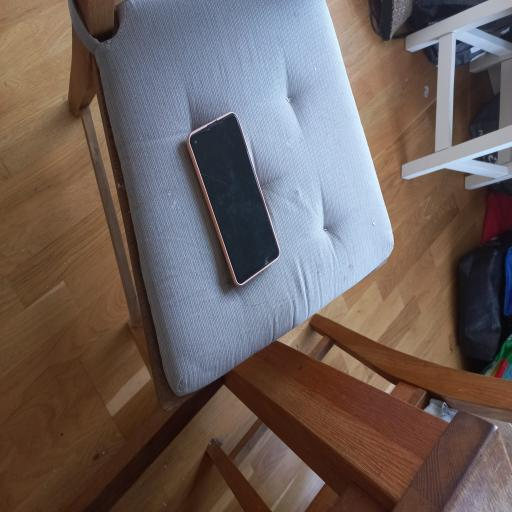phone: (187, 113, 279, 285)
